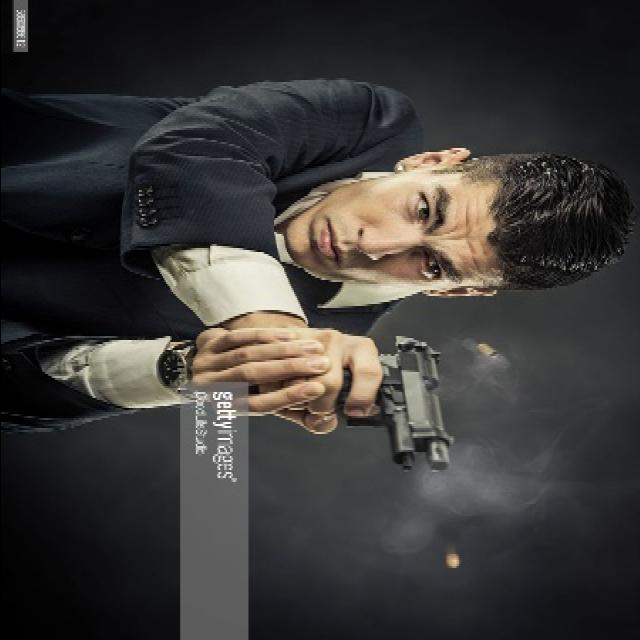handgun: (330, 331, 456, 475)
